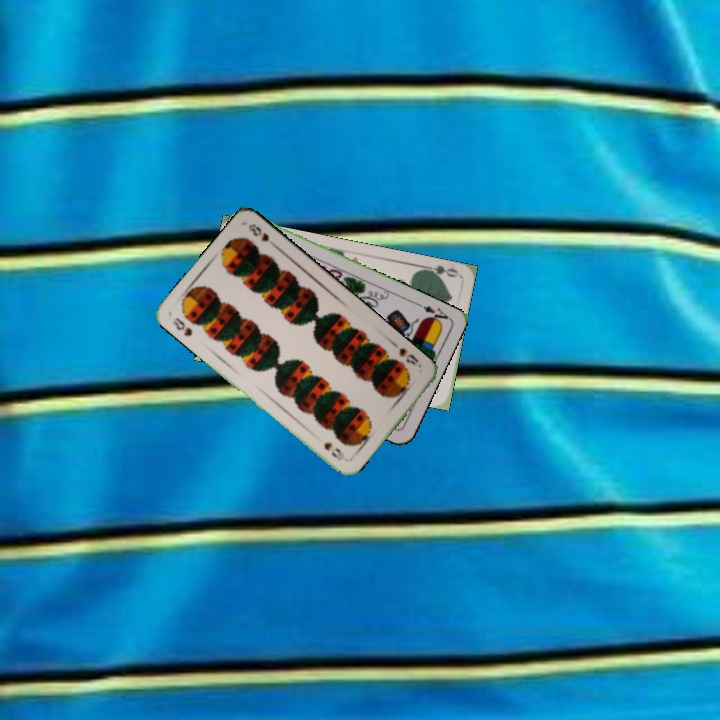EA: (413, 299, 451, 327)
GO: (419, 261, 460, 282)
S8: (168, 313, 195, 339), (395, 344, 421, 368)
